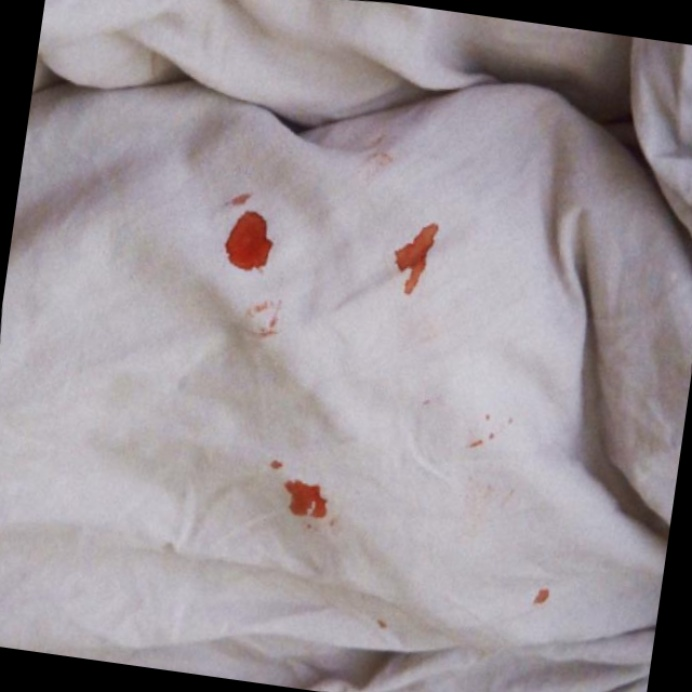blood: (383, 215, 445, 304), (219, 204, 282, 279), (278, 474, 336, 522)
